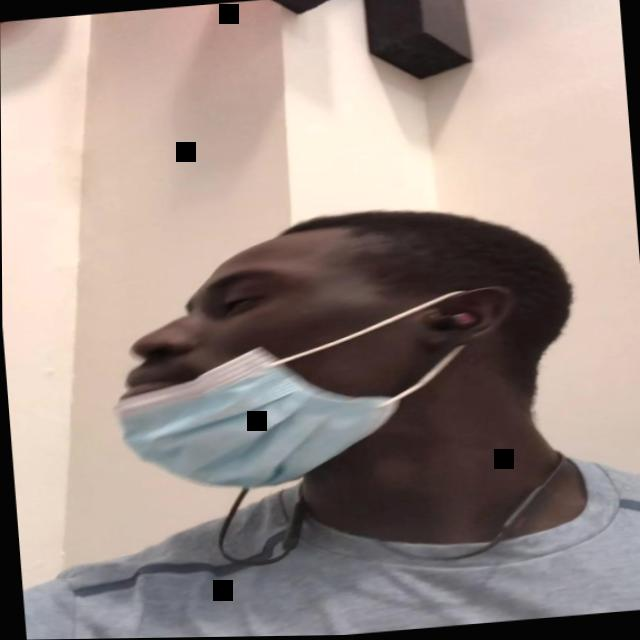NO-Mask: (102, 237, 479, 497)
